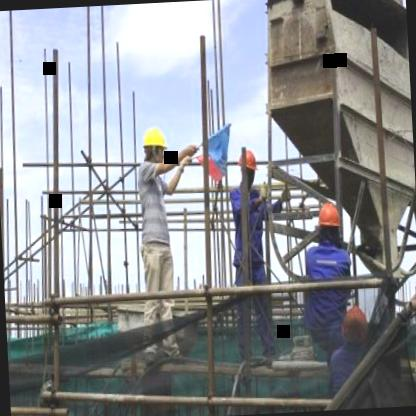helmet: (140, 120, 170, 168), (339, 301, 369, 348), (315, 197, 345, 241), (240, 144, 258, 186)
